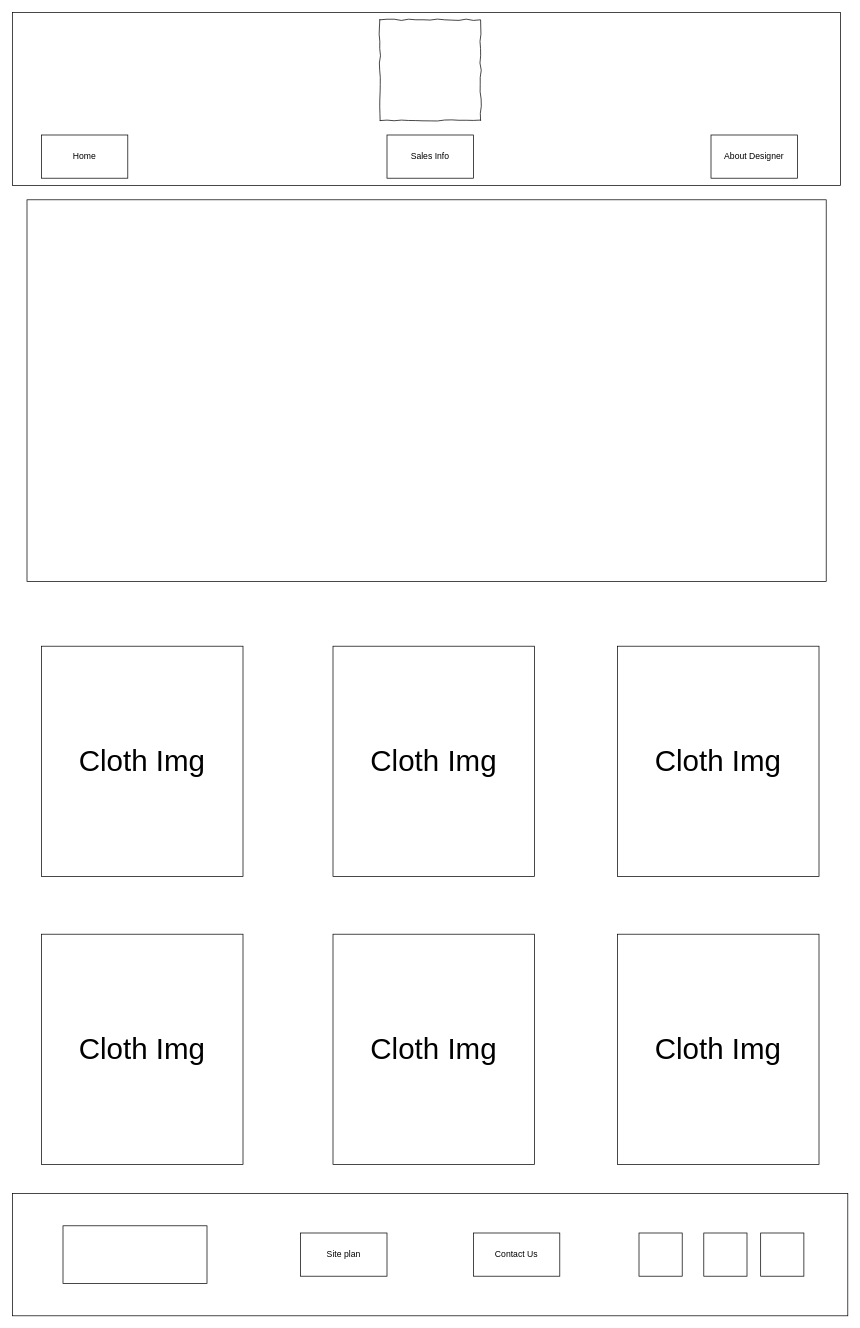
This 860x1328 diagram has some shape labels left out. Each missing label, with the centre of its shape:
Hero Image: point (426, 390)
LOGO: point (430, 70)
undoYoung 2022: point (134, 1254)
